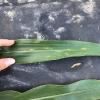Corn Gray leaf spot: (16, 36, 99, 66)
